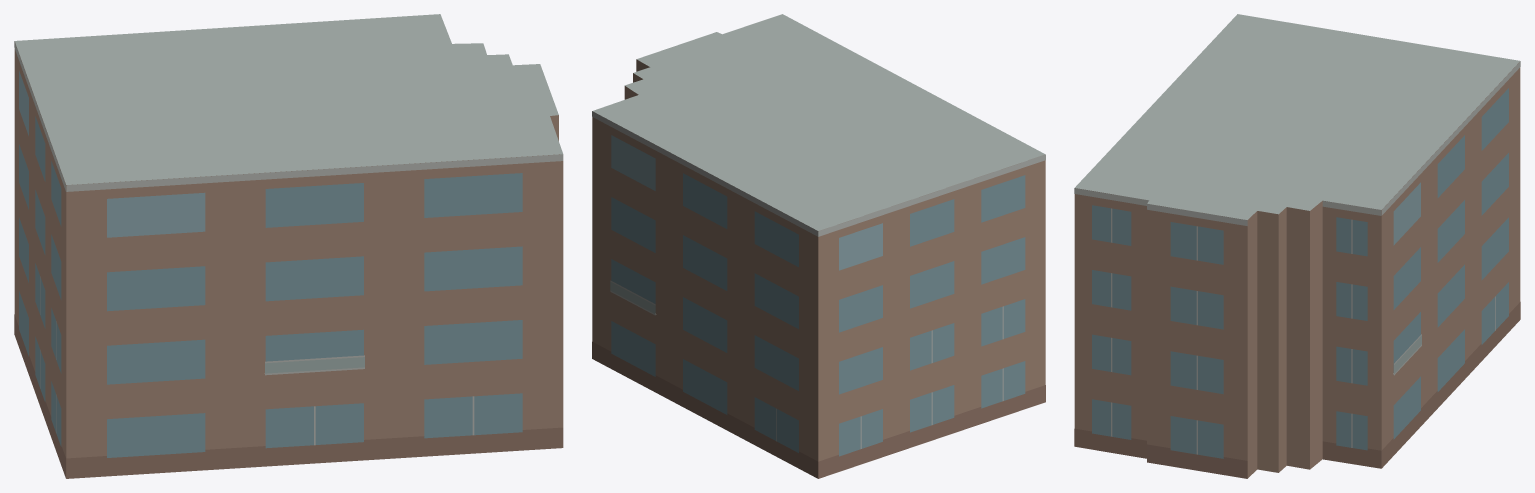
Rendered from survey-upis-32662715.glb.
3 renders of one model, left to right at view 1: azimuth 30°, elevation 25°; view 2: azimuth 150°, elevation 25°; view 3: azimuth 270°, elevation 25°, orthographic. The views are drawn at different scales.
Visible parts, largest first — view 1: survey-upis-32662715.tmp; view 2: survey-upis-32662715.tmp; view 3: survey-upis-32662715.tmp.
Part boxes in pixels (x1,y1,x2,y2): survey-upis-32662715.tmp: (14, 14, 563, 478); survey-upis-32662715.tmp: (592, 14, 1045, 478); survey-upis-32662715.tmp: (1074, 14, 1520, 478).
Size of the model in its own units: 17.95 by 10.5 by 16.42.
